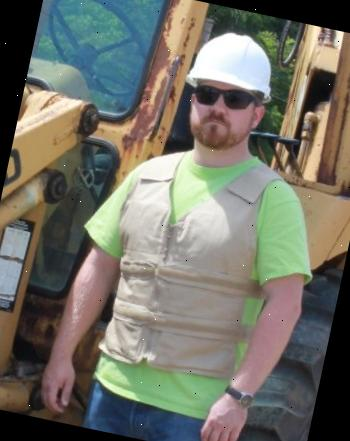helmet: (181, 20, 282, 110)
wear: (84, 146, 294, 422)
